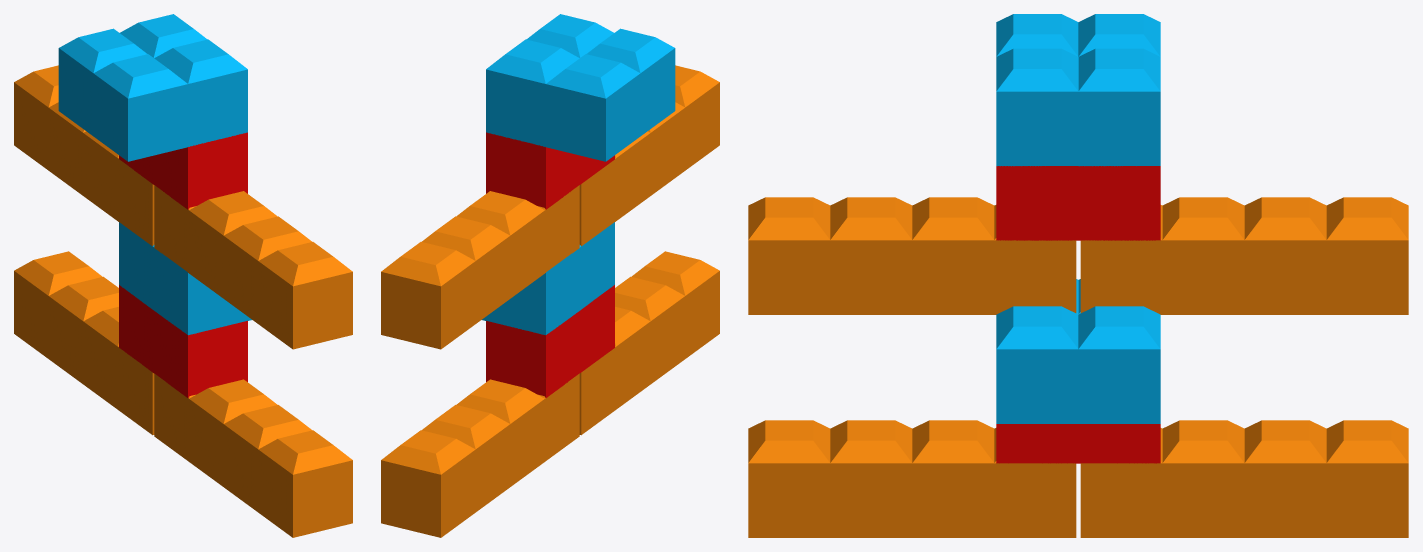
The model's file is blocks_5.glb.
3 renders of one model, left to right at view 1: azimuth 30°, elevation 25°; view 2: azimuth 150°, elevation 25°; view 3: azimuth 270°, elevation 25°, orthographic. The views are drawn at different scales.
Visible parts, largest first — view 1: Cube.024, Cube.017, Cube.004, Cube.023, Cube.008, Cube.027, Cube.014, Cube.007, Cube.025, Cube.002, Cube.015, Cube.006 (+14 smaller); view 2: Cube.025, Cube.019, Cube.002, Cube.022, Cube.009, Cube.026, Cube.020, Cube.001, Cube.024, Cube.004, Cube.021, Cube (+14 smaller); view 3: Cube.013, Cube.012, Cube.021, Cube.020, Cube.015, Cube.014, Cube, Cube.006, Cube.019, Cube.017, Cube.001, Cube.002 (+14 smaller).
Boxes of the visible parts, x1=… form: Cube.024: x1=93, y1=54, x2=187, y2=161; Cube.017: x1=258, y1=242, x2=352, y2=349; Cube.004: x1=258, y1=430, x2=352, y2=537; Cube.023: x1=154, y1=39, x2=247, y2=146; Cube.008: x1=153, y1=310, x2=247, y2=397; Cube.027: x1=153, y1=132, x2=247, y2=209; Cube.014: x1=223, y1=216, x2=311, y2=323; Cube.007: x1=223, y1=405, x2=311, y2=512; Cube.025: x1=58, y1=28, x2=147, y2=135; Cube.002: x1=14, y1=251, x2=102, y2=358; Cube.015: x1=189, y1=191, x2=277, y2=298; Cube.006: x1=189, y1=379, x2=277, y2=486; Cube.025: x1=546, y1=54, x2=640, y2=161; Cube.019: x1=381, y1=242, x2=475, y2=349; Cube.002: x1=381, y1=430, x2=475, y2=537; Cube.022: x1=486, y1=39, x2=579, y2=146; Cube.009: x1=486, y1=310, x2=580, y2=397; Cube.026: x1=486, y1=132, x2=580, y2=209; Cube.020: x1=422, y1=216, x2=510, y2=323; Cube.001: x1=422, y1=405, x2=510, y2=512; Cube.024: x1=586, y1=28, x2=675, y2=135; Cube.004: x1=631, y1=251, x2=719, y2=358; Cube.021: x1=456, y1=191, x2=544, y2=298; Cube: x1=456, y1=379, x2=544, y2=486; Cube.013: x1=1078, y1=306, x2=1160, y2=423; Cube.012: x1=996, y1=306, x2=1078, y2=423; Cube.021: x1=1162, y1=197, x2=1244, y2=314; Cube.020: x1=1244, y1=197, x2=1326, y2=314; Cube.015: x1=912, y1=197, x2=994, y2=314; Cube.014: x1=830, y1=197, x2=912, y2=314; Cube: x1=1162, y1=420, x2=1244, y2=537; Cube.006: x1=912, y1=420, x2=994, y2=537; Cube.019: x1=1326, y1=197, x2=1408, y2=314; Cube.017: x1=748, y1=197, x2=830, y2=314; Cube.001: x1=1244, y1=420, x2=1326, y2=537; Cube.002: x1=1326, y1=420, x2=1408, y2=537.
Size of the model in its own units: 6 by 12.42 by 16.1.
